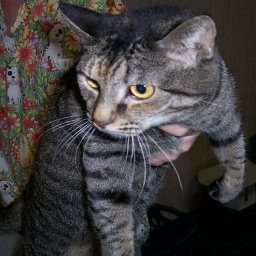cat: (27, 4, 245, 256)
